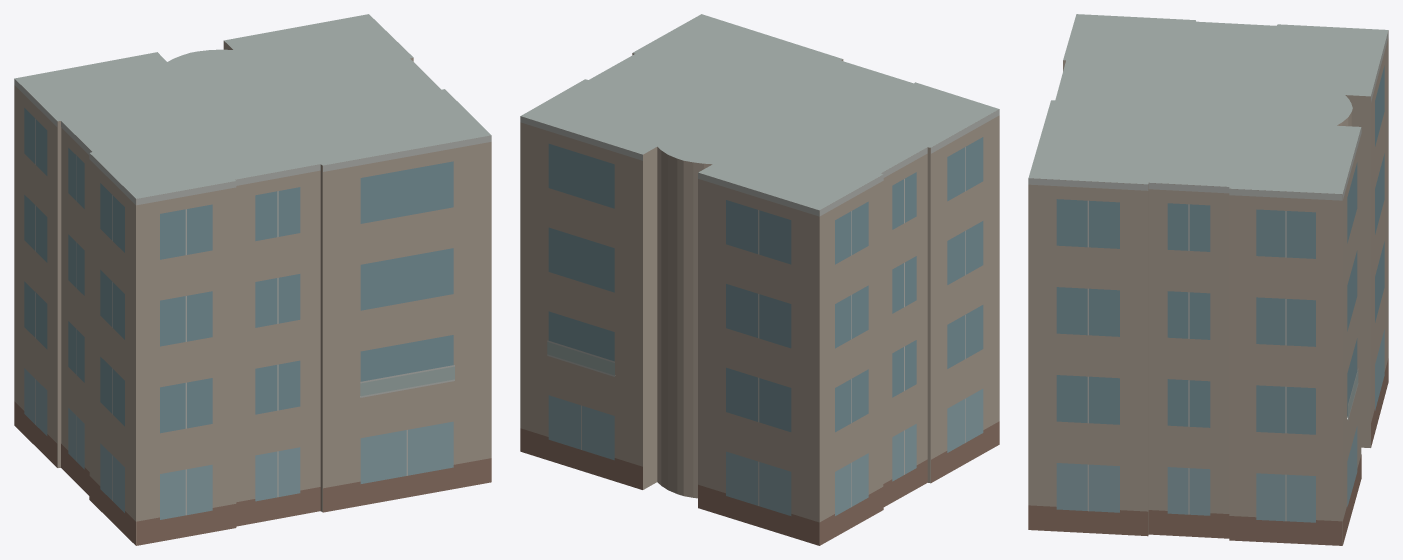
The model's file is survey-upis-33012986.glb.
3 views of the same model, side by side, from view 1: azimuth 30°, elevation 25°; view 2: azimuth 150°, elevation 25°; view 3: azimuth 270°, elevation 25° (orthographic). The views are drawn at different scales.
Visible parts, largest first — view 1: survey-upis-33012986.tmp; view 2: survey-upis-33012986.tmp; view 3: survey-upis-33012986.tmp.
Boxes of the visible parts, x1=… form: survey-upis-33012986.tmp: x1=14, y1=14, x2=491, y2=545; survey-upis-33012986.tmp: x1=520, y1=14, x2=999, y2=545; survey-upis-33012986.tmp: x1=1028, y1=14, x2=1388, y2=545.
Size of the model in its own units: 14.51 by 13.2 by 12.26.
